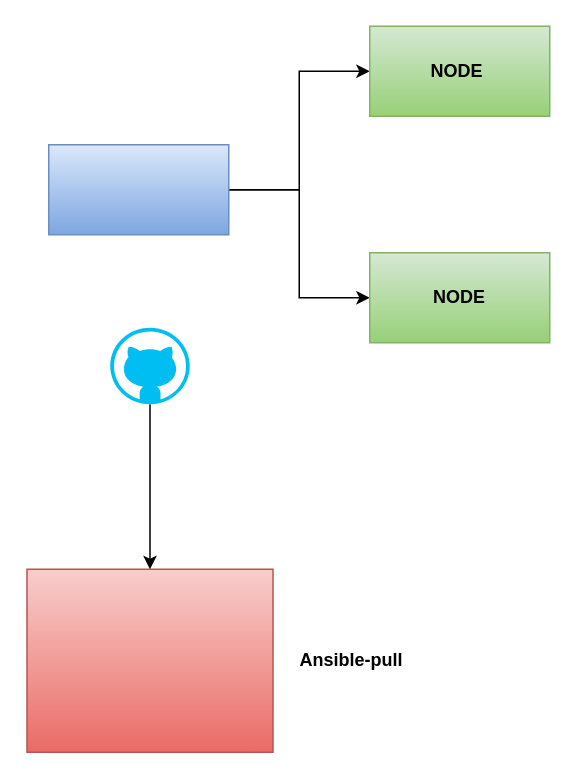
The diagram is 576 pixels wide and 779 high, and some of its shapes have lost their labels. The box of each missing label's shape, as (x1, y1, x2, y2) in pixels:
Ansible Server: (47, 143, 229, 235)
MongoDB Ansible Server: (26, 568, 273, 752)
